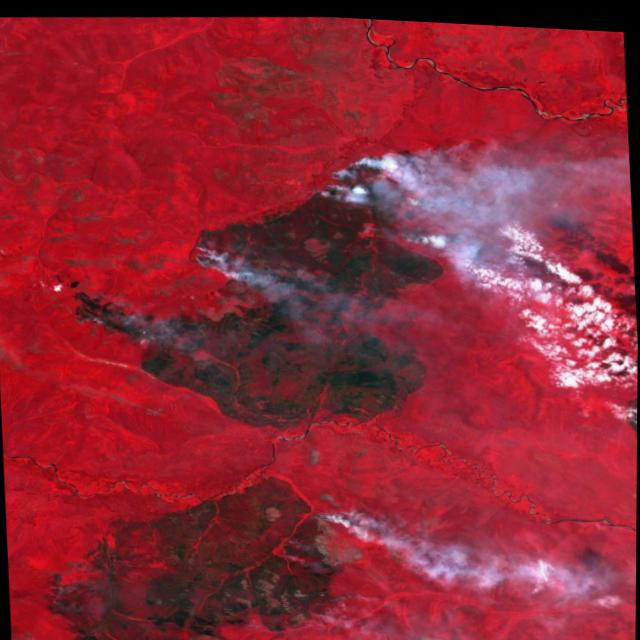fire: (324, 141, 438, 247), (311, 495, 354, 531)
